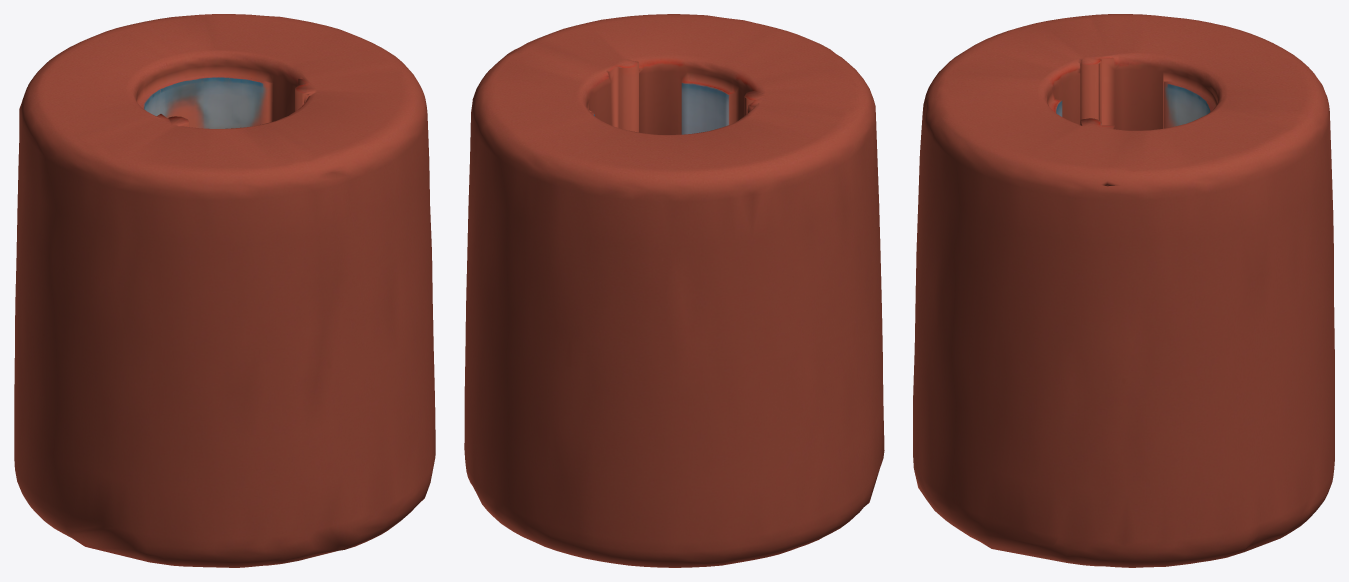
Rendered from red cylindrical spacer 3d model.glb.
The picture shows the model from 3 angles, left to right: view 1: azimuth 30°, elevation 25°; view 2: azimuth 150°, elevation 25°; view 3: azimuth 270°, elevation 25°; orthographic projection.
Parts seen in each view (by area): view 1: tripo_node_d2d7e782-4091-4e48-9ba3-65f8a5c2cbb0; view 2: tripo_node_d2d7e782-4091-4e48-9ba3-65f8a5c2cbb0; view 3: tripo_node_d2d7e782-4091-4e48-9ba3-65f8a5c2cbb0.
Boxes of the visible parts, bbox=[...] form: tripo_node_d2d7e782-4091-4e48-9ba3-65f8a5c2cbb0: bbox=[14, 14, 435, 567]; tripo_node_d2d7e782-4091-4e48-9ba3-65f8a5c2cbb0: bbox=[464, 14, 884, 567]; tripo_node_d2d7e782-4091-4e48-9ba3-65f8a5c2cbb0: bbox=[913, 14, 1334, 567].
Bounding box in the file's own units: 0.959 × 0.998 × 0.9551.
1 material, 1 textured.
